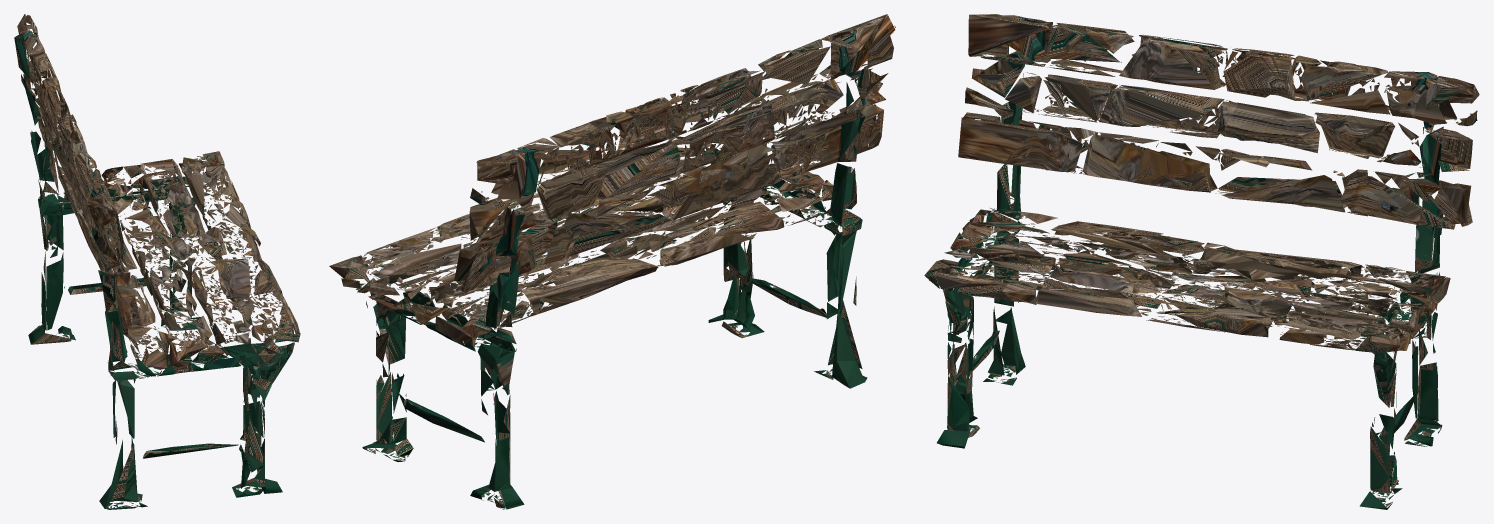
Rendered from CourtBench.obj.
The picture shows the model from 3 angles, left to right: view 1: azimuth 30°, elevation 25°; view 2: azimuth 150°, elevation 25°; view 3: azimuth 270°, elevation 25°; orthographic projection. The views are drawn at different scales.
Bounding box in the file's own units: 0.9336 × 0.92 × 1.32.
1 material, 1 textured.
